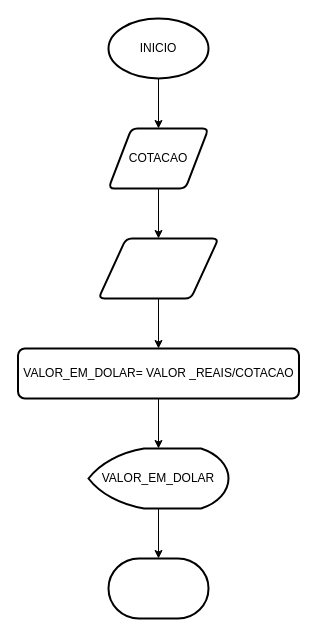
Some shapes in this 317 by 636 pixel diagram are drawn without their labels. Each missing label, with the box of its shape:
FIM: (107, 557, 209, 619)
VALOR_REAIS: (97, 237, 219, 299)
